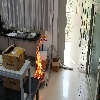fire: (34, 40, 43, 78)
